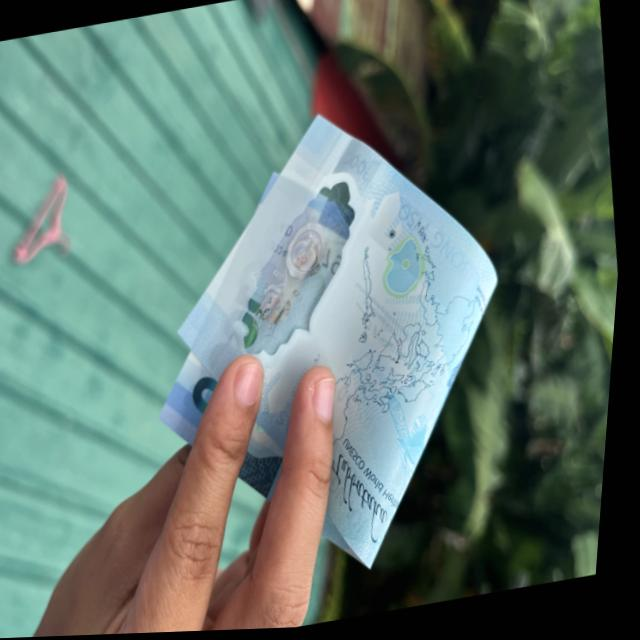clear_window: (202, 129, 423, 457)
